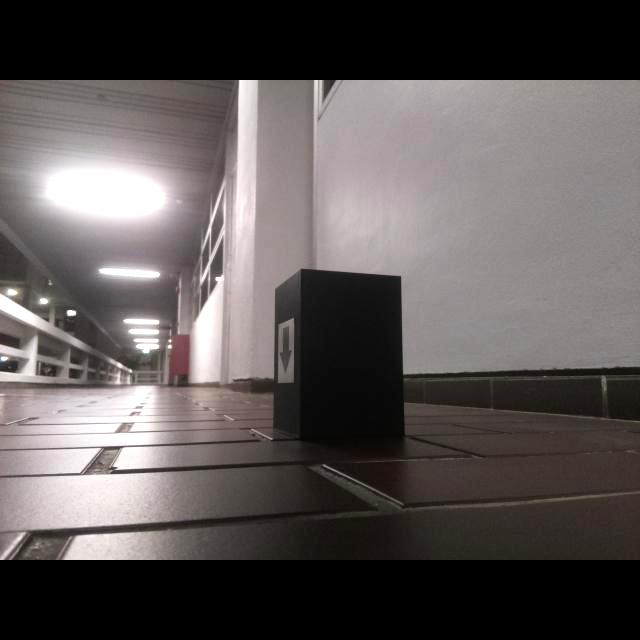DOWN: (279, 325, 292, 376)
